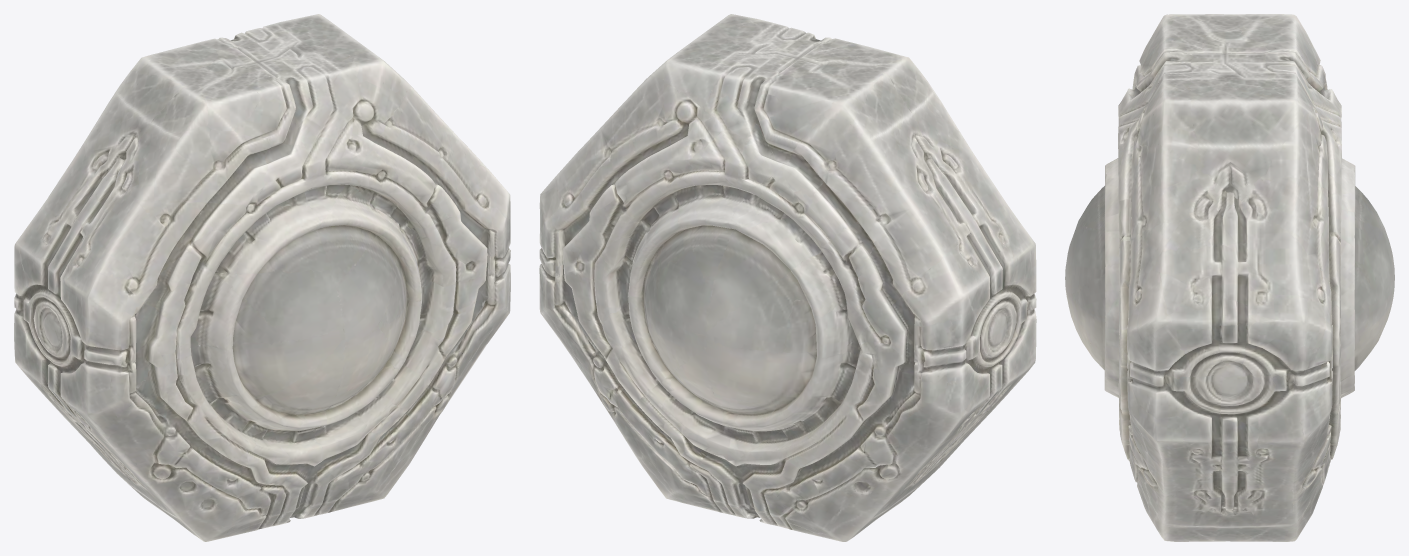
Rendered from quartz_lens.glb.
3 renders of one model, left to right at view 1: azimuth 30°, elevation 25°; view 2: azimuth 150°, elevation 25°; view 3: azimuth 270°, elevation 25°, orthographic.
Bounding box in the file's own units: 1.9 × 1.89 × 1.27.
Materials: 1 (1 with a texture image).
